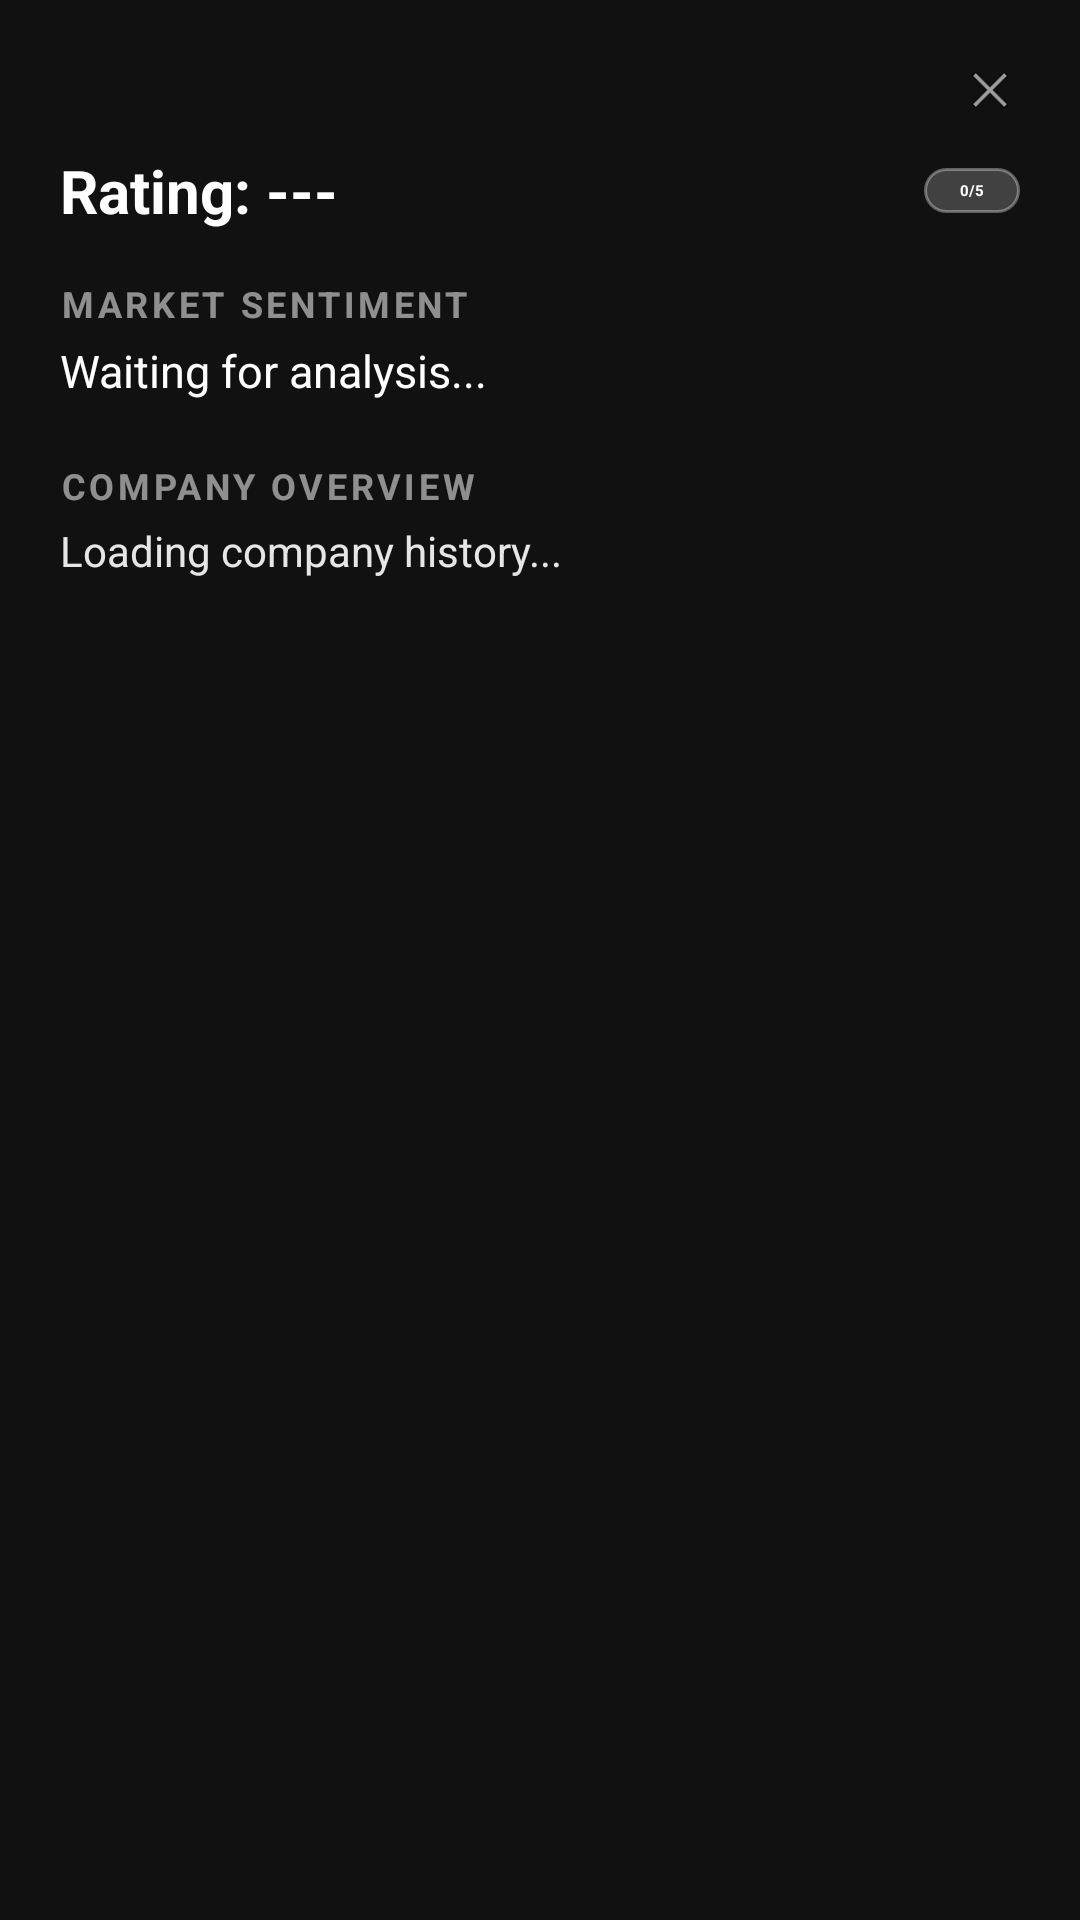

Where to tap for icons on this 1080×1920 app screen, as (x=x, y=y):
Close: (x=990, y=90)
